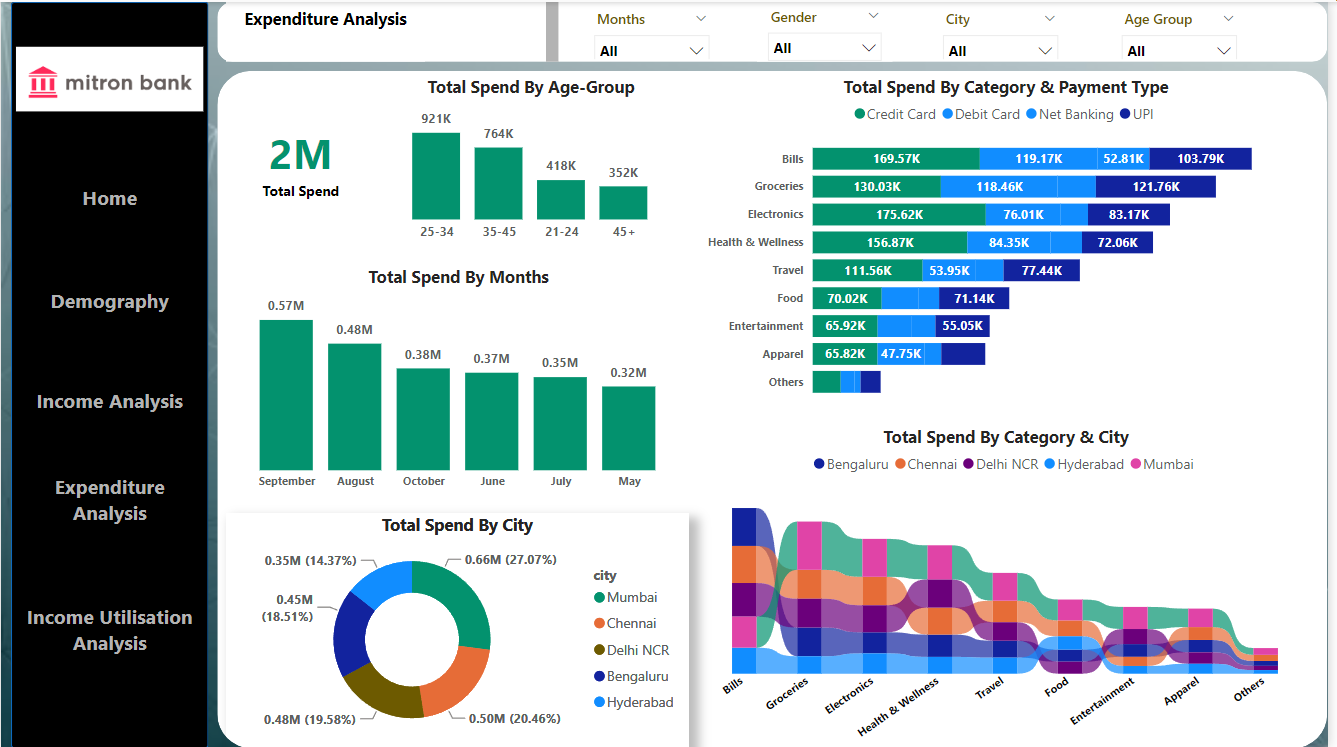

The page's visual inventory and layout, read from the dashboard file:
{"tool":"powerbi","page":{"name":"Expenditure Analysis","canvas":[1280,720],"ordinal":3},"visuals":[{"type":"shape","box":[9.7,0,190.6,720.2],"z":0},{"type":"shape","box":[208.7,0,1071.3,57.9],"z":1000},{"type":"actionButton","box":[9.7,154.4,190.6,67.6],"z":2000},{"type":"actionButton","box":[9.7,349.9,190.6,67.6],"z":3000},{"type":"actionButton","box":[9.7,446.4,190.6,67.6],"z":4000},{"type":"actionButton","box":[9.7,550.1,190.6,109.8],"z":5000},{"type":"actionButton","box":[9.7,253.4,190.6,67.6],"z":6000},{"type":"textbox","box":[217.2,0,191.8,57.9],"z":7000},{"type":"shape","box":[526,0,12.1,57.9],"z":8000},{"type":"slicer","fields":{"Values":["fact_spends.month"]},"box":[562.2,2.4,131.5,53.1],"z":9000},{"type":"slicer","fields":{"Values":["dim_customers.gender"]},"box":[729.9,0,130.3,57.9],"z":10000},{"type":"slicer","fields":{"Values":["dim_customers.age_group"]},"box":[1071.3,2.4,131.5,53.1],"z":11000},{"type":"slicer","fields":{"Values":["dim_customers.city"]},"box":[898.8,2.4,131.5,53.1],"z":12000},{"type":"shape","box":[208.7,66.4,1071.3,653.9],"z":13000},{"type":"card","fields":{"Values":["fact_spends.Total Expenses (spend)"]},"box":[217.2,97.7,144.8,113.4],"z":14000},{"type":"clusteredColumnChart","title":"Total Spend By Age-Group","fields":{"Category":["dim_customers.age_group"],"Y":["fact_spends.Total Expenses (spend)"]},"box":[368,70,287.1,170.1],"z":15000},{"type":"clusteredColumnChart","title":"Total Spend By Months","fields":{"Category":["fact_spends.month"],"Y":["Sum(fact_spends.spend)"]},"box":[218.4,253.4,446.4,226.8],"z":16000},{"type":"donutChart","title":"Total Spend By City","fields":{"Y":["Sum(fact_spends.spend)"],"Category":["dim_customers.city"]},"box":[217.2,493.4,446.4,226.8],"z":17000},{"type":"barChart","title":"Total Spend By Category & Payment Type","fields":{"Y":["Sum(fact_spends.spend)"],"Category":["fact_spends.category"],"Series":["fact_spends.payment_type"]},"box":[675.6,70,588.7,323.3],"z":18000},{"type":"ribbonChart","title":"Total Spend By Category & City","fields":{"Category":["fact_spends.category"],"Y":["Sum(fact_spends.spend)"],"Series":["dim_customers.city"]},"box":[675.6,407.8,588.7,312.5],"z":19000},{"type":"donutChart","title":"Total Spend By City","fields":{"Y":["Sum(fact_spends.spend)"],"Category":["dim_customers.city"]},"box":[217.2,493.2,446.4,226.8],"z":20000},{"type":"image","box":[9.7,0,190.6,149.6],"z":21000}]}

Visuals, with their boxes on the page's 1280x720 design canvas (x1, y1, x2, y2). These are canvas units, not pixel positions in the 1337x747 screenshot, which may show the page scaled, cropped or inside an application window:
shape: left=10, top=0, right=200, bottom=720
shape: left=209, top=0, right=1280, bottom=58
actionButton: left=10, top=154, right=200, bottom=222
actionButton: left=10, top=350, right=200, bottom=418
actionButton: left=10, top=446, right=200, bottom=514
actionButton: left=10, top=550, right=200, bottom=660
actionButton: left=10, top=253, right=200, bottom=321
textbox: left=217, top=0, right=409, bottom=58
shape: left=526, top=0, right=538, bottom=58
slicer - fact_spends.month: left=562, top=2, right=694, bottom=56
slicer - dim_customers.gender: left=730, top=0, right=860, bottom=58
slicer - dim_customers.age_group: left=1071, top=2, right=1203, bottom=56
slicer - dim_customers.city: left=899, top=2, right=1030, bottom=56
shape: left=209, top=66, right=1280, bottom=720
card - fact_spends.Total Expenses (spend): left=217, top=98, right=362, bottom=211
"Total Spend By Age-Group" clusteredColumnChart: left=368, top=70, right=655, bottom=240
"Total Spend By Months" clusteredColumnChart: left=218, top=253, right=665, bottom=480
"Total Spend By City" donutChart: left=217, top=493, right=664, bottom=720
"Total Spend By Category & Payment Type" barChart: left=676, top=70, right=1264, bottom=393
"Total Spend By Category & City" ribbonChart: left=676, top=408, right=1264, bottom=720
"Total Spend By City" donutChart: left=217, top=493, right=664, bottom=720
image: left=10, top=0, right=200, bottom=150
